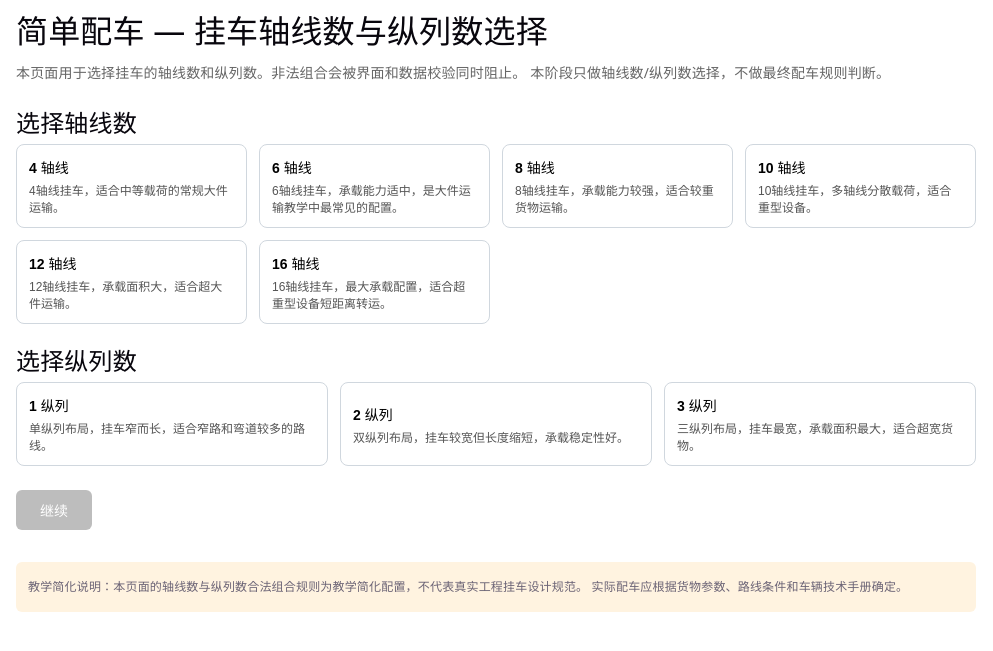
Test case: TrailerSelectionPage › should show error for disallowed combination 4+2 via disabled UI
Click the button with test id "axle-4". click: (132, 186)
box: [16,144,247,228]
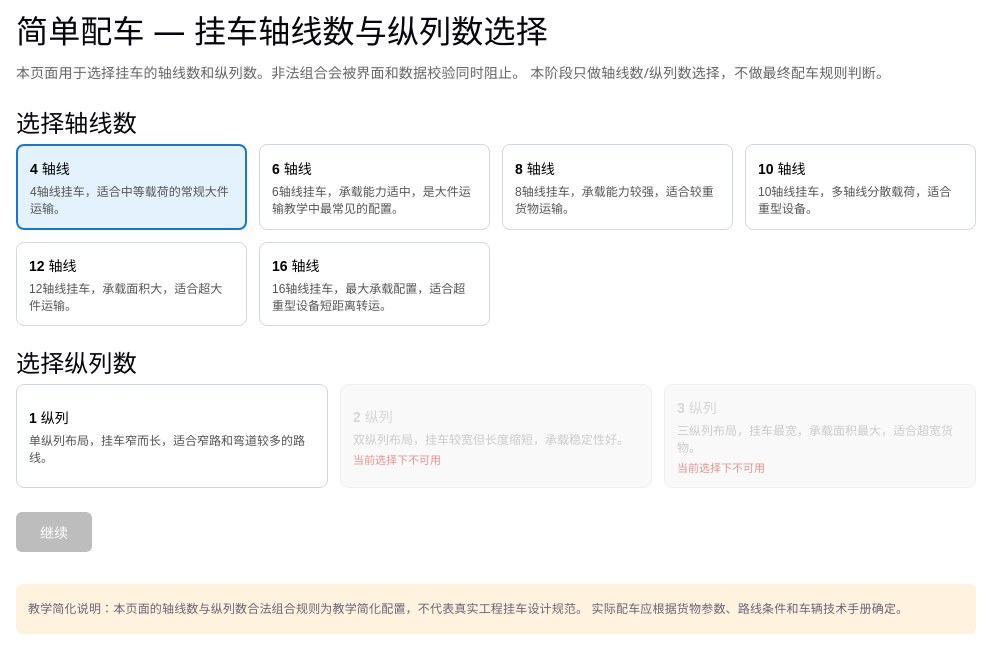
Check: the button with test id "col-1" is enabled, box [16,384,328,488]
Check: the button with test id "col-2" is disabled, box [340,384,652,488]
Check: the button with test id "col-3" is disabled, box [664,384,976,488]
